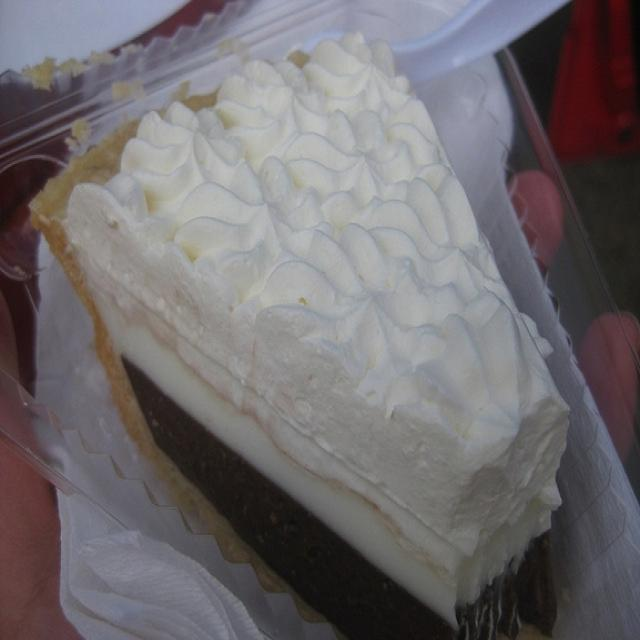蛋糕甜品: (18, 26, 581, 608)
